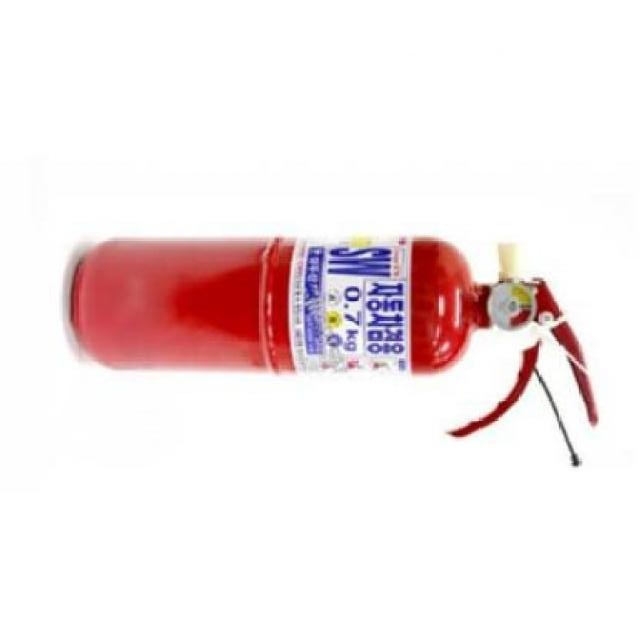fire extinguisher: (70, 235, 599, 469)
